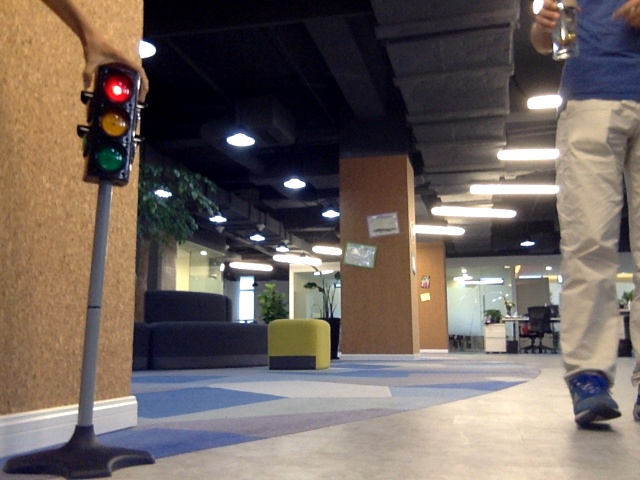red: (93, 70, 133, 173)
